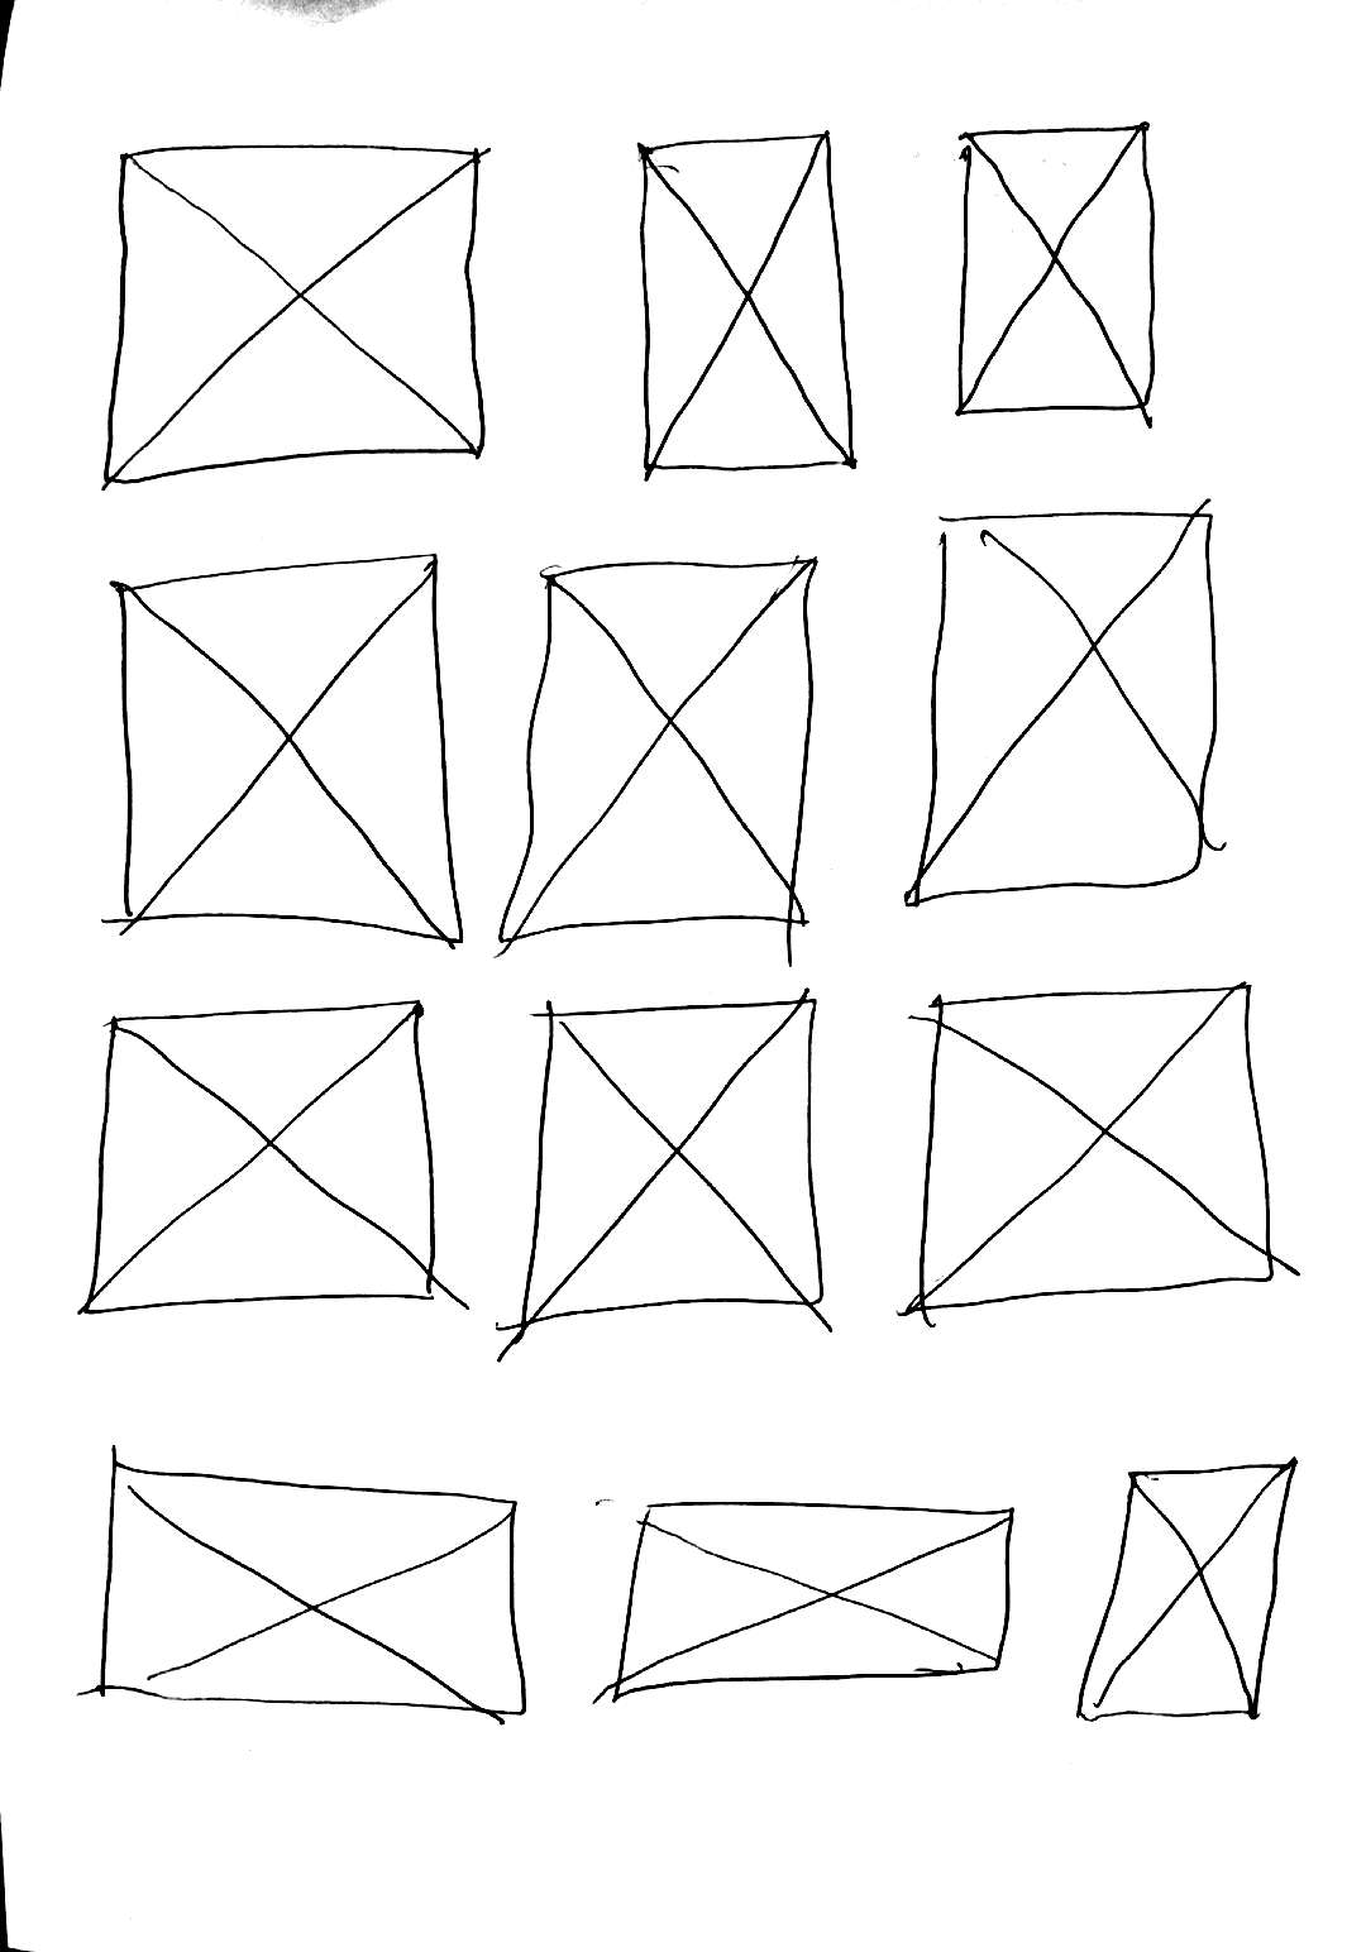Image: (113, 550, 464, 954), (95, 139, 492, 495), (488, 553, 822, 954), (900, 507, 1222, 911), (914, 975, 1278, 1325), (76, 989, 443, 1320), (92, 1454, 534, 1724), (510, 989, 828, 1333), (604, 1494, 1022, 1712), (636, 128, 857, 484), (949, 120, 1167, 424), (1063, 1457, 1295, 1730)
